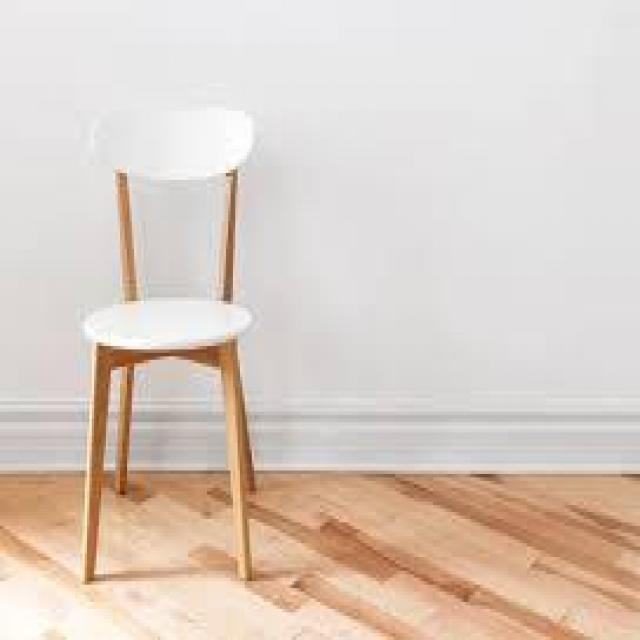chair: (73, 41, 275, 592)
